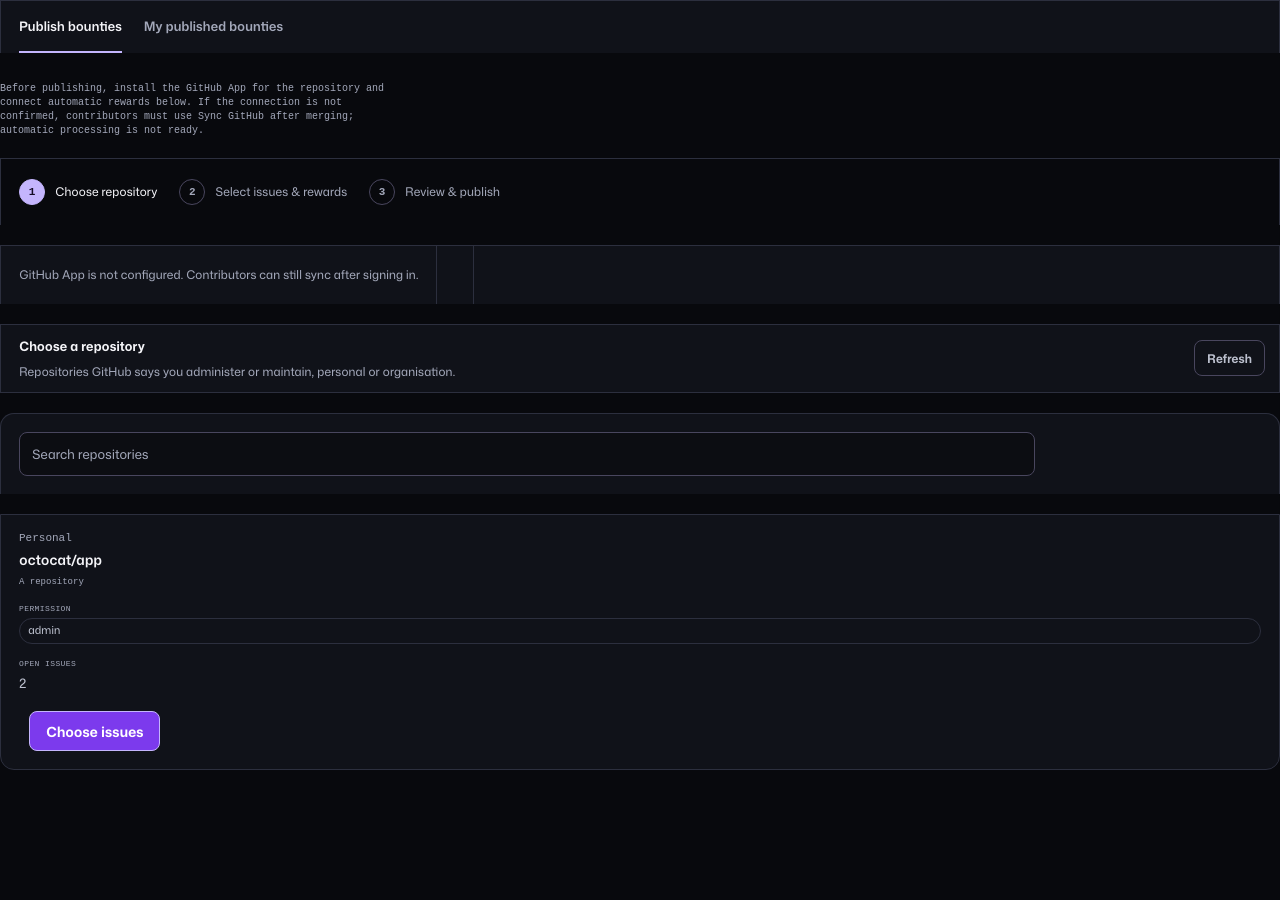
Test: choosing issues › loads the chosen repository's open issues
What coordinates should you click on to do the following:
click the button "Choose issues"
I would click on:
 (95, 731)
Its box is 29,711 -> 160,751.
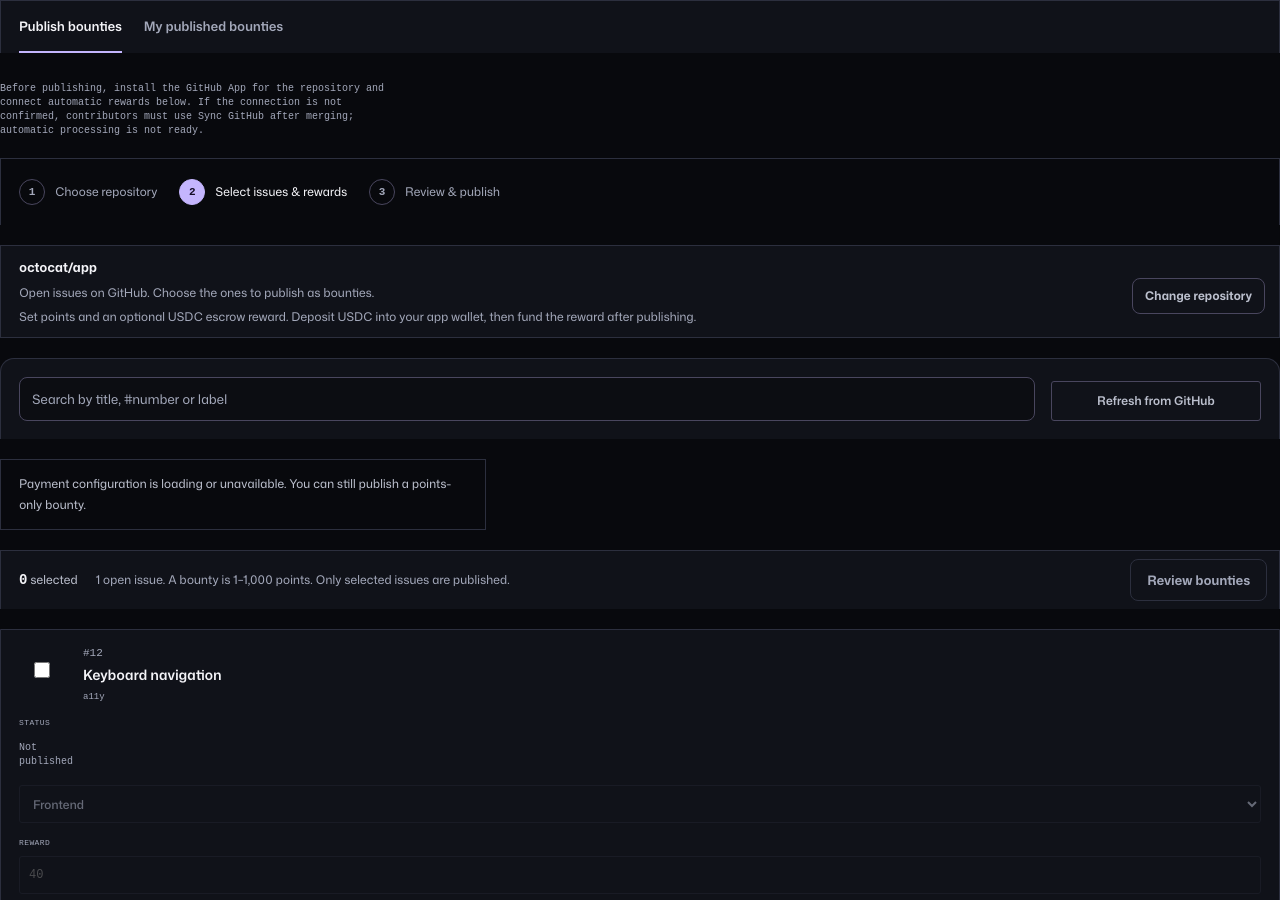
Expected: the text "octocat/app" is shown, 19,258 -> 97,276
Expected: the link "Keyboard navigation" is shown, 83,665 -> 221,684
Expected: the text "Not published" is shown, 19,742 -> 73,770
